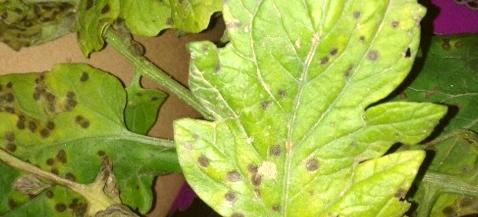Tomato Septoria leaf spot: (171, 0, 449, 217), (0, 60, 164, 217), (0, 0, 79, 67)
